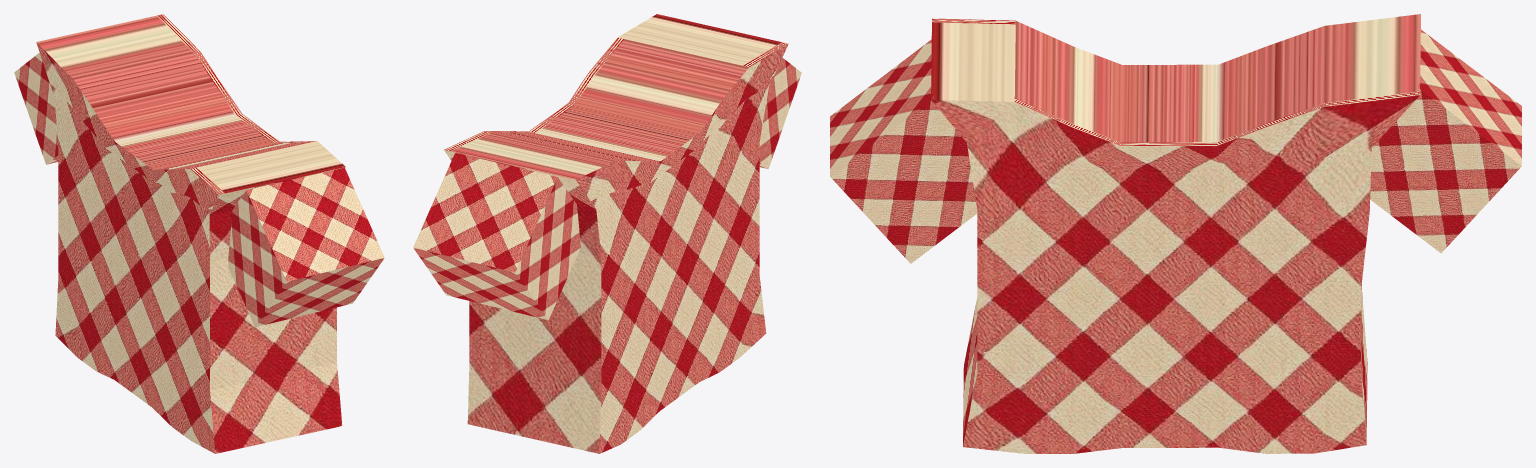
Rendered from plaidtop.glb.
3 views of the same model, side by side, from view 1: azimuth 30°, elevation 25°; view 2: azimuth 150°, elevation 25°; view 3: azimuth 270°, elevation 25° (orthographic). The views are drawn at different scales.
Parts seen in each view (by area): view 1: Cube.020; view 2: Cube.020; view 3: Cube.020.
Boxes of the visible parts, x1,y1,x2,y2 form: Cube.020: [14, 14, 384, 453]; Cube.020: [413, 14, 801, 453]; Cube.020: [830, 14, 1521, 453].
Size of the model in its own units: 0.9835 by 1.96 by 3.39.
3 materials, 3 textured.
